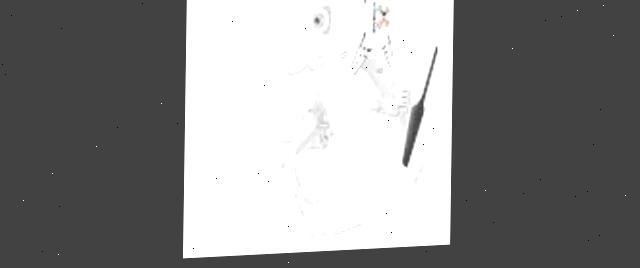drone: (238, 0, 447, 253)
